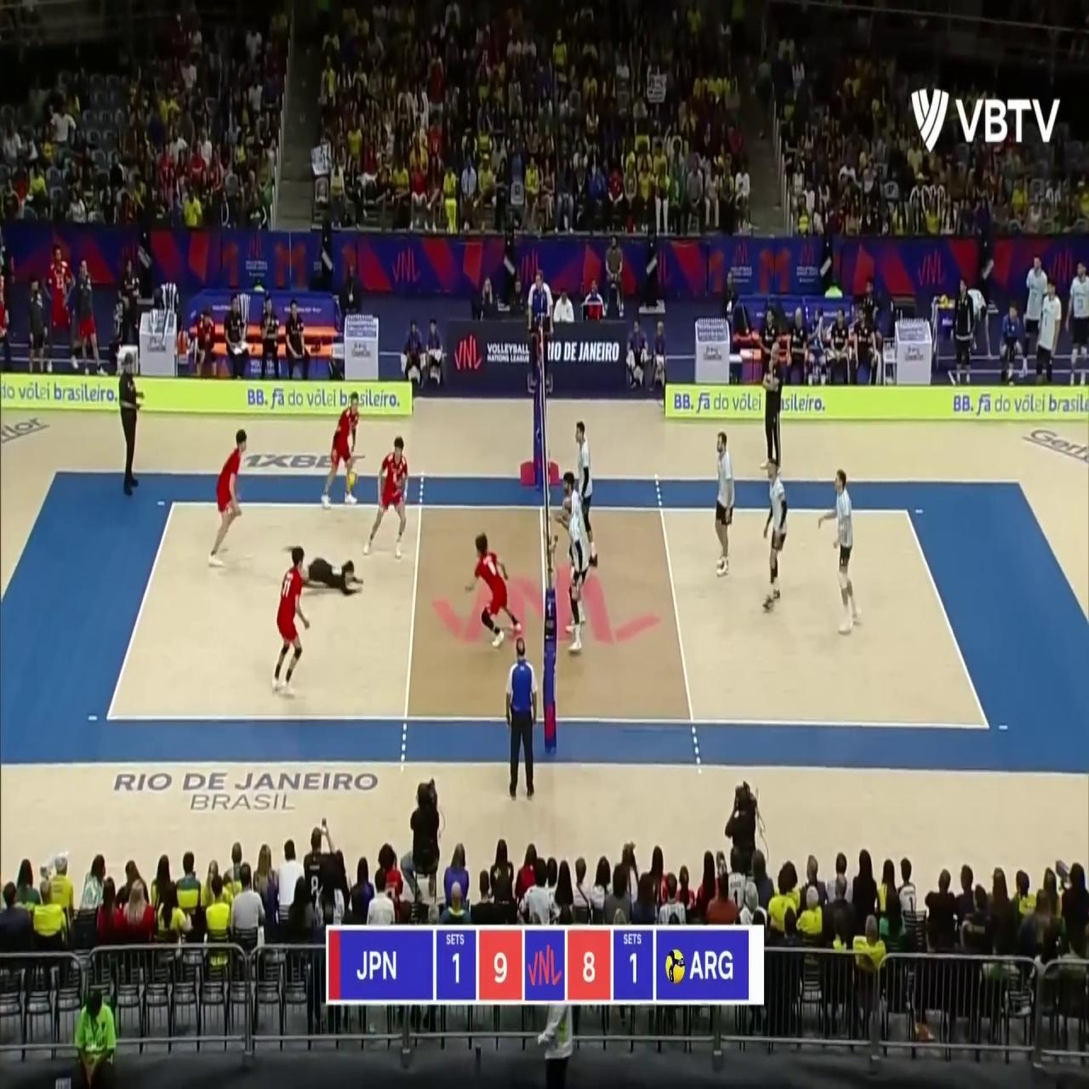ball: (346, 470, 358, 490)
